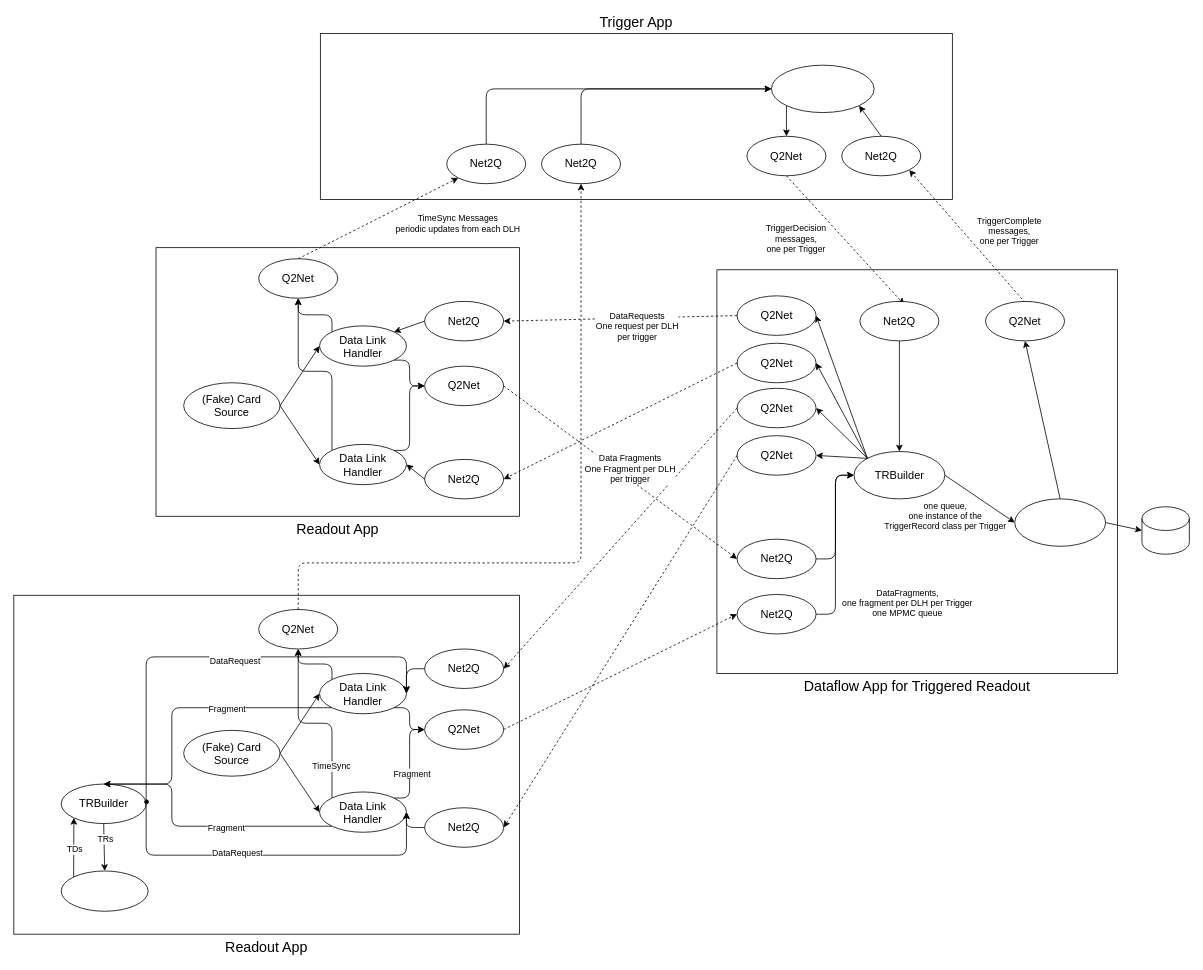
Some shapes in this 1203 by 970 pixel diagram are drawn without their labels. Here are the shapes that lost their labels. From the top down, the centre of each, then its label:
point 822,88: TriggerDecision Emulator
point 1060,522: DataWriter
point 104,890: DQM Module
